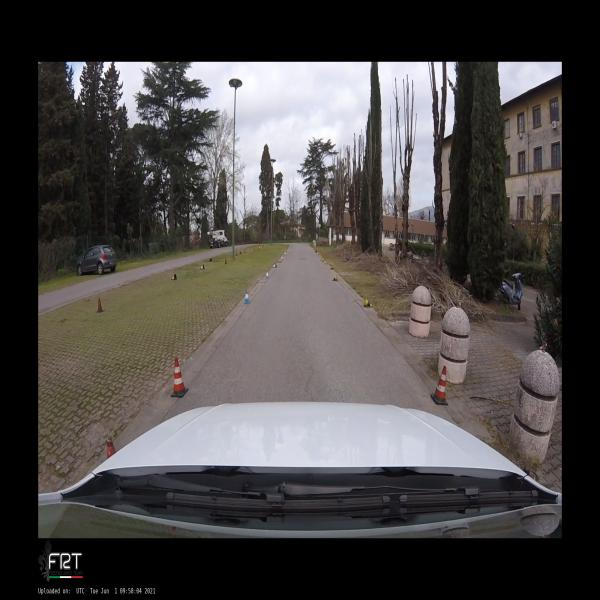blue_cone: (244, 290, 250, 304), (266, 272, 270, 280), (273, 263, 277, 268), (284, 251, 286, 256), (281, 256, 283, 260)
large_orange_cone: (170, 358, 189, 397), (430, 366, 448, 405)
orange_cone: (171, 274, 177, 280), (200, 264, 205, 269)
unknown_cone: (96, 297, 104, 313), (209, 258, 212, 262), (225, 258, 227, 264), (244, 250, 247, 253)
yellow_cone: (364, 297, 372, 307), (332, 275, 337, 281), (330, 264, 335, 270), (322, 258, 324, 263)
